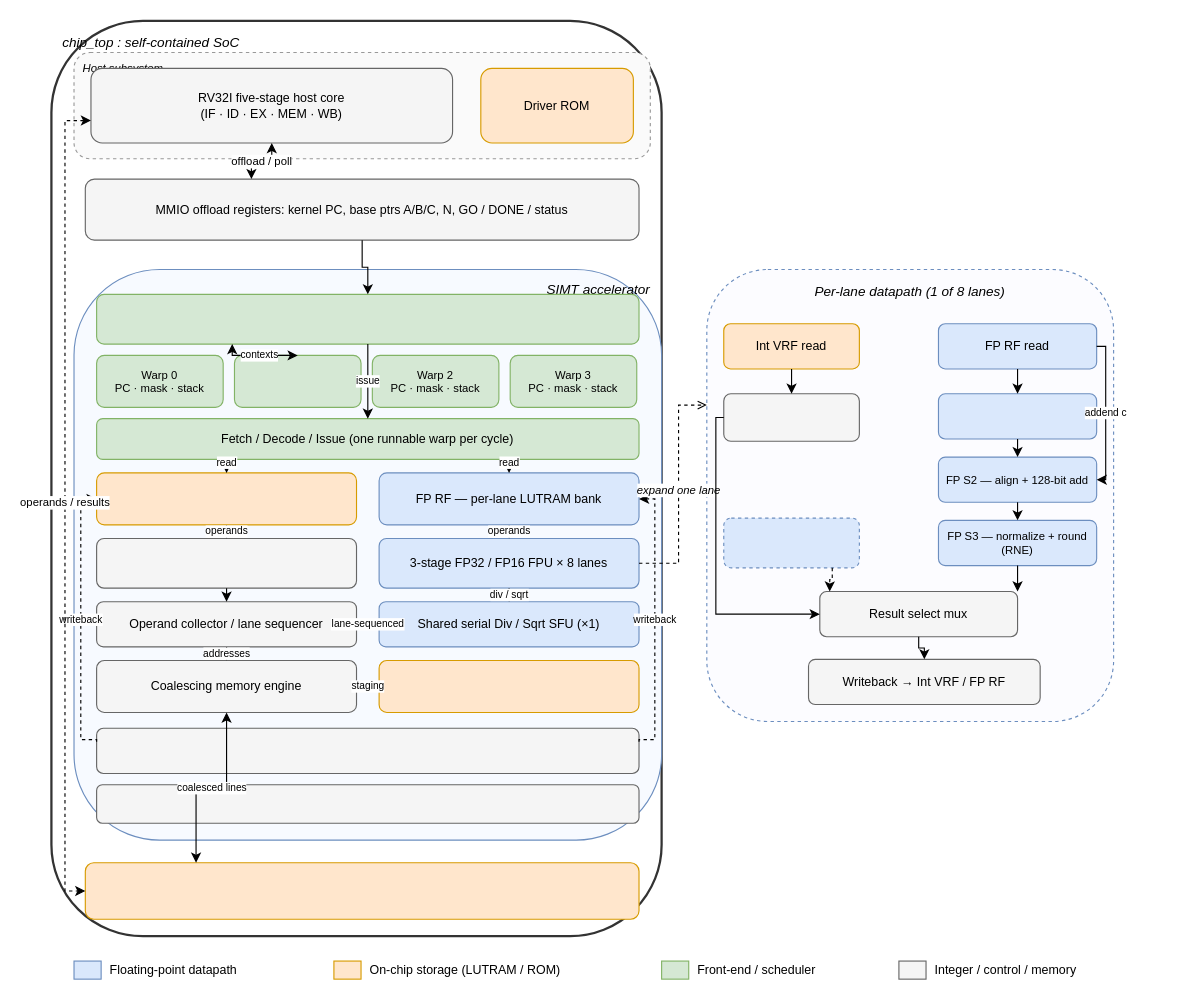
The diagram is 1189 pixels wide and 1002 high, and some of its shapes have lost their labels. Here are the shapes that lost their labels. From the top down, the centre of each, then its label:
the point at 367,318: Warp scheduler — round-robin issue, background memory engine (latency hiding)
the point at 297,380: Warp 1 PC · mask · stack
the point at 791,417: Integer ALU
the point at 1017,416: FP S1 — exact product a×b
the point at 226,498: Int VRF — per-lane LUTRAM bank
the point at 226,562: Integer ALU × 8 lanes
the point at 791,542: div / sqrt → shared SFU
the point at 508,685: Per-warp scratchpad (LUTRAM)
the point at 367,750: Writeback + stall scoreboard (W_MEM / W_SFU / W_FPC)
the point at 367,803: Hardware performance counters (per-mechanism, RTL-measurable)
the point at 361,890: Eight-bank on-chip shared memory (LUTRAM)
